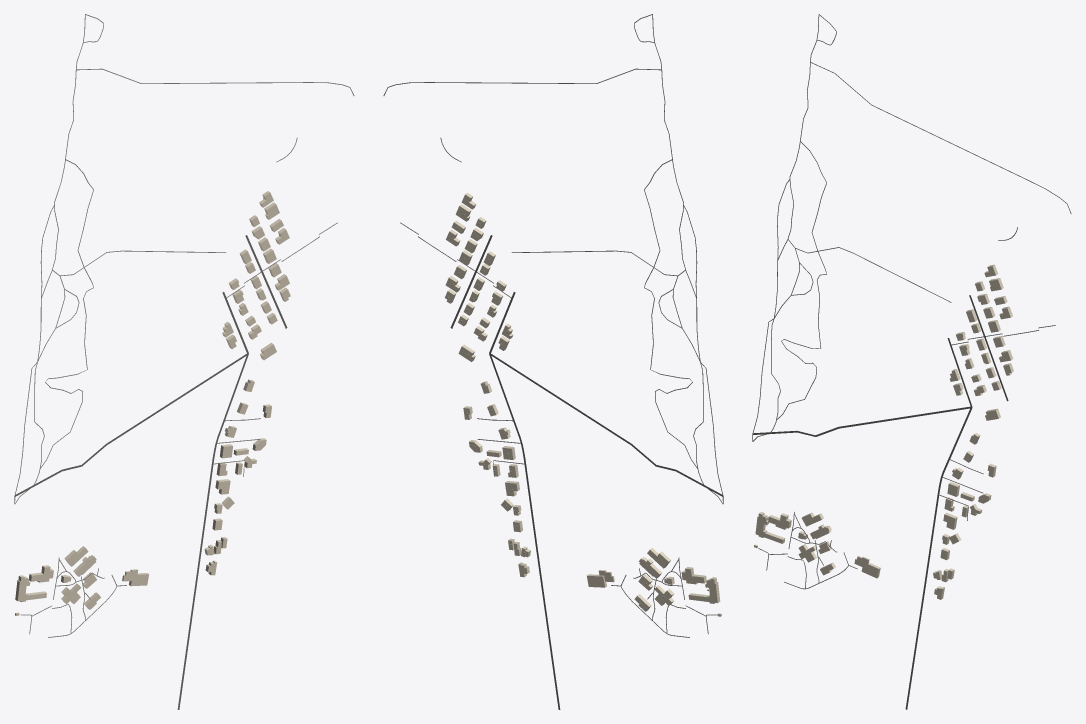
The model's file is historic-palestine-09_35_3507_3295.glb.
3 renders of one model, left to right at view 1: azimuth 30°, elevation 25°; view 2: azimuth 150°, elevation 25°; view 3: azimuth 330°, elevation 25°, orthographic. The views are drawn at different scales.
Visible parts, largest first — view 1: Road הים, Road, Road .035; view 2: Road הים, Road; view 3: Road הים, Road.
Part boxes in pixels (x1,y1,x2,y2): Road הים: [177, 353, 248, 709]; Road: [14, 353, 247, 496]; Road .035: [40, 159, 93, 468]; Road הים: [489, 353, 560, 709]; Road: [489, 353, 723, 496]; Road הים: [905, 407, 972, 709]; Road: [752, 406, 971, 436].
Size of the model in its own units: 605 by 1221 by 8.7.
